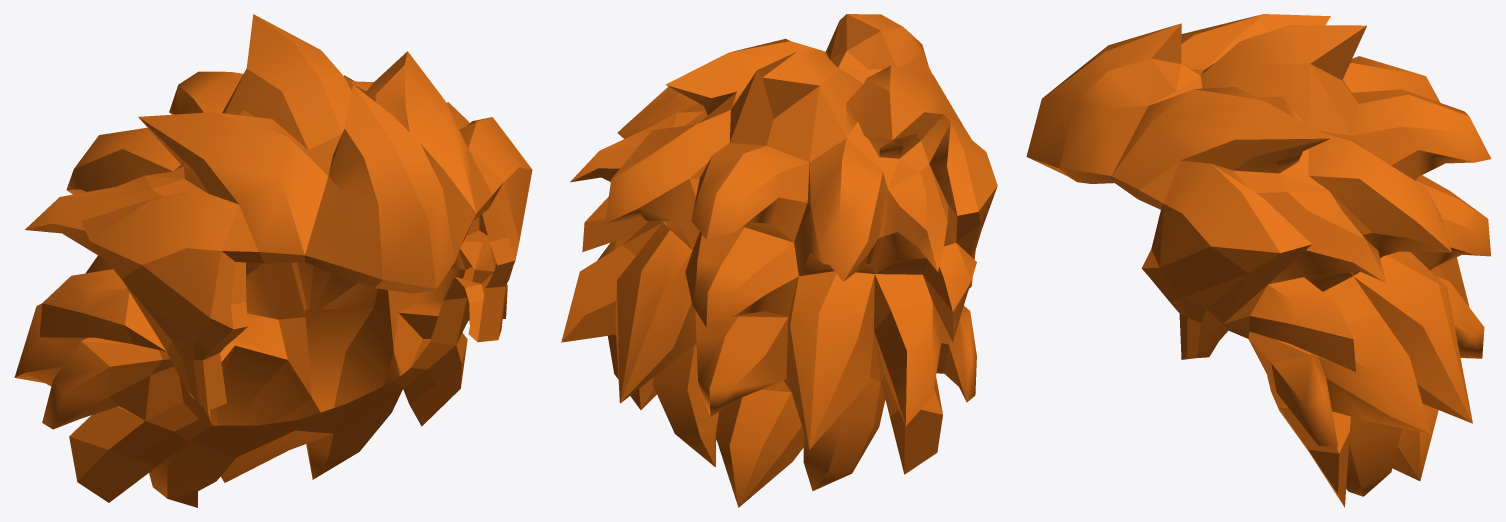
File: Hair_Orange_20.fbx
3 renders of one model, left to right at view 1: azimuth 30°, elevation 25°; view 2: azimuth 150°, elevation 25°; view 3: azimuth 270°, elevation 25°, orthographic. The views are drawn at different scales.
Parts seen in each view (by area): view 1: Hair_Orange_20; view 2: Hair_Orange_20; view 3: Hair_Orange_20.
Boxes of the visible parts, x1,y1,x2,y2 form: Hair_Orange_20: (14,14,532,507); Hair_Orange_20: (561,14,997,507); Hair_Orange_20: (1026,14,1491,507).
Size of the model in its own units: 73.92 by 76.65 by 70.5.
